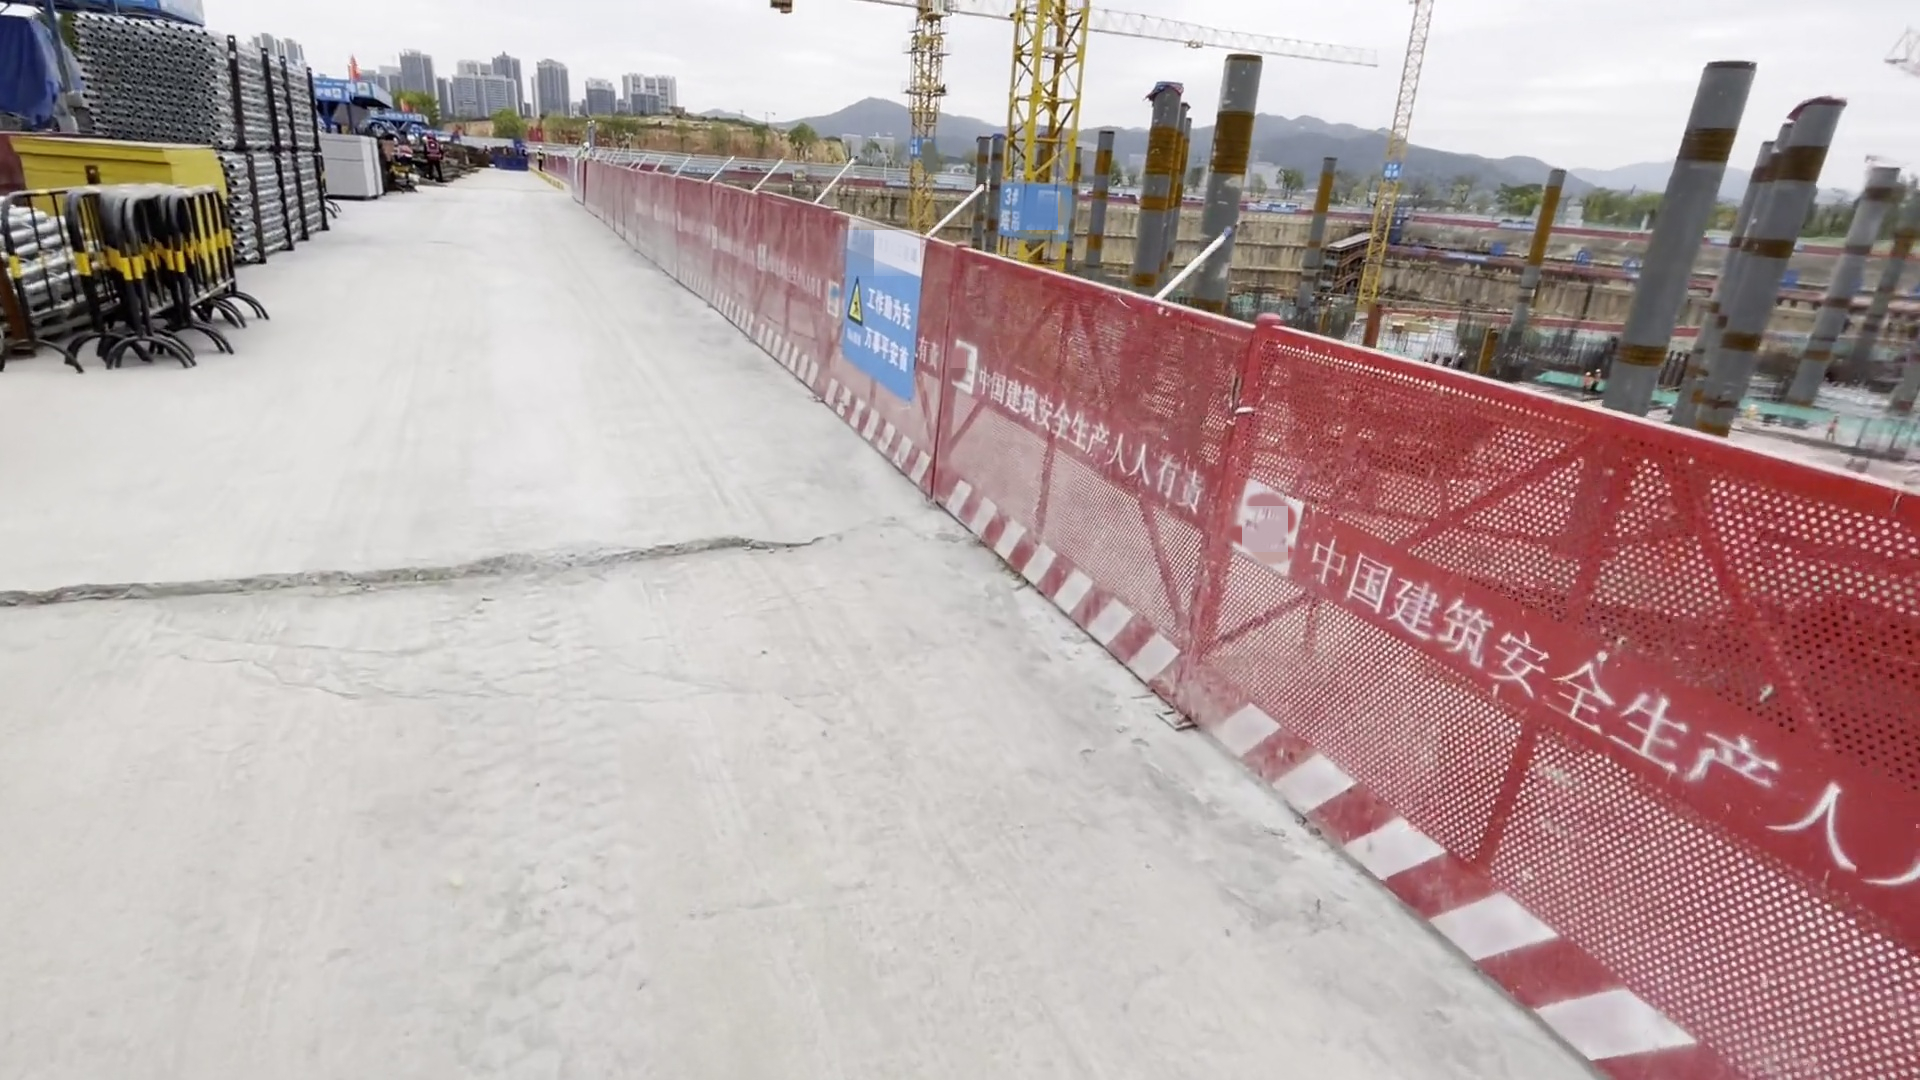brick: (307, 130, 392, 209)
fence: (907, 243, 1912, 1080), (548, 138, 841, 385)
person: (417, 129, 443, 186), (535, 145, 544, 173)
scaffold: (61, 3, 332, 268)
slogan: (839, 276, 920, 368)
